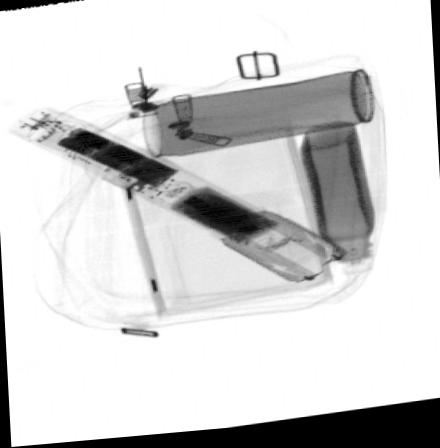Baton: (4, 103, 351, 291)
